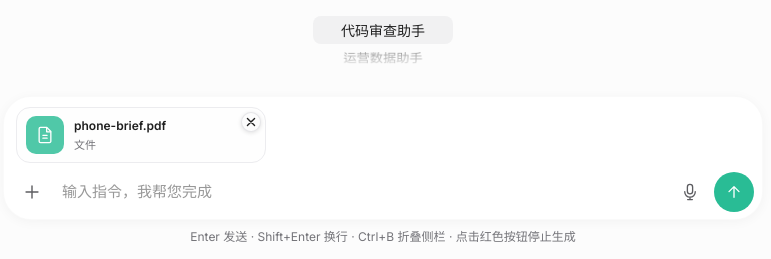
Scenario: EmptyTaskComposer › keeps a phone-uploaded attachment removed when the session poll re-lists it
Click the button named "移除附件：phone-brief.pdf" at (251, 122), box left=241, top=112, right=261, bottom=132
Wait 2000 ms
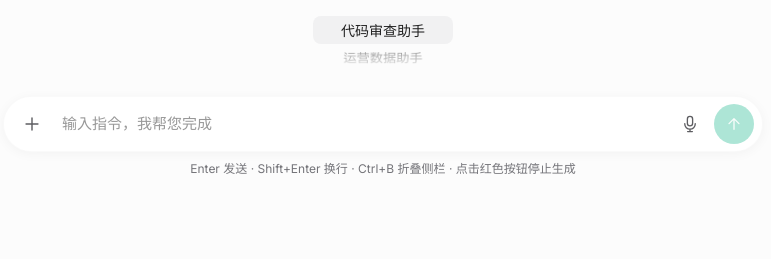
Now the button named "移除附件：phone-brief.pdf" is gone
